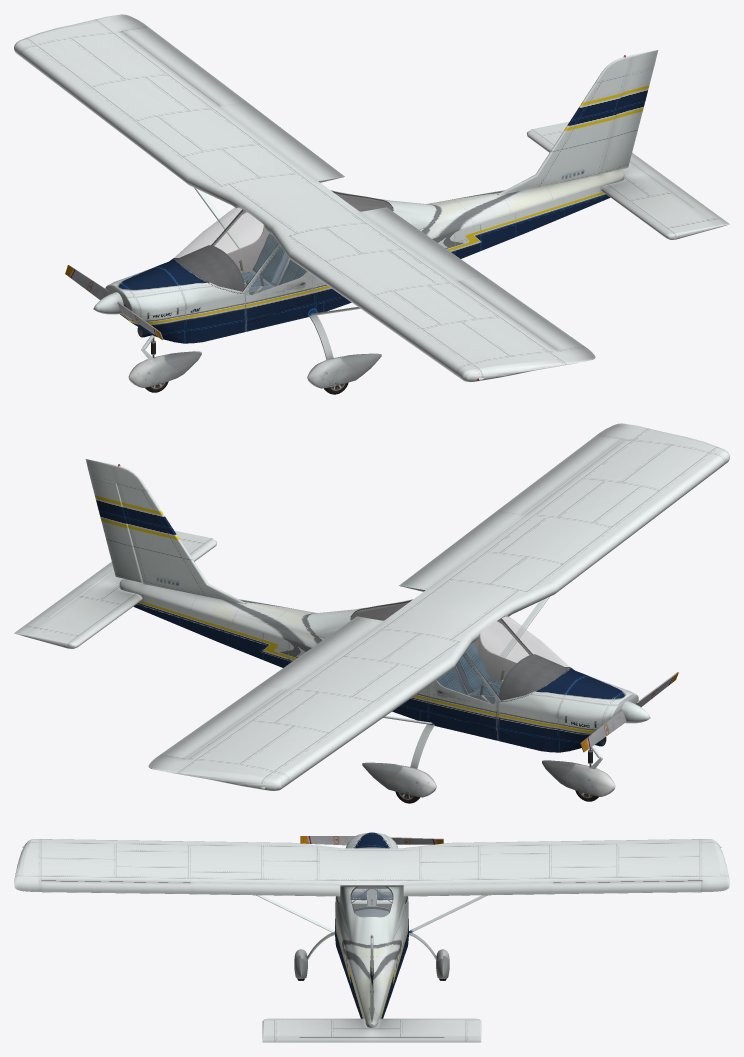
The model's file is small.glb.
3 views of the same model, one above another, from view 1: azimuth 30°, elevation 25°; view 2: azimuth 150°, elevation 25°; view 3: azimuth 270°, elevation 25° (orthographic). The views are drawn at different scales.
Parts seen in each view (by area): view 1: Object_36, Object_37, Object_50, Object_38, Object_28, Object_22, Object_32; view 2: Object_36, Object_37, Object_50, Object_38, Object_28, Object_22, Object_32; view 3: Object_36, Object_37, Object_50, Object_38, Object_32, Object_31.
Part boxes in pixels (left/top/right/bottom): Object_36: left=14, top=14, right=729, bottom=381; Object_37: left=105, top=50, right=658, bottom=343; Object_50: left=174, top=191, right=481, bottom=380; Object_38: left=128, top=315, right=381, bottom=392; Object_28: left=175, top=245, right=244, bottom=291; Object_22: left=174, top=191, right=393, bottom=295; Object_32: left=241, top=233, right=306, bottom=294; Object_36: left=14, top=423, right=729, bottom=790; Object_37: left=85, top=459, right=638, bottom=752; Object_50: left=262, top=600, right=569, bottom=789; Object_38: left=362, top=724, right=615, bottom=801; Object_28: left=499, top=654, right=568, bottom=700; Object_22: left=350, top=600, right=569, bottom=704; Object_32: left=437, top=642, right=502, bottom=703; Object_36: left=14, top=832, right=729, bottom=1042; Object_37: left=256, top=832, right=487, bottom=1027; Object_50: left=22, top=846, right=721, bottom=916; Object_38: left=294, top=932, right=449, bottom=978; Object_32: left=339, top=888, right=405, bottom=908; Object_31: left=353, top=906, right=390, bottom=917.
Size of the model in its own units: 6.65 by 2.5 by 9.63.
Materials: 46 (41 with a texture image).
